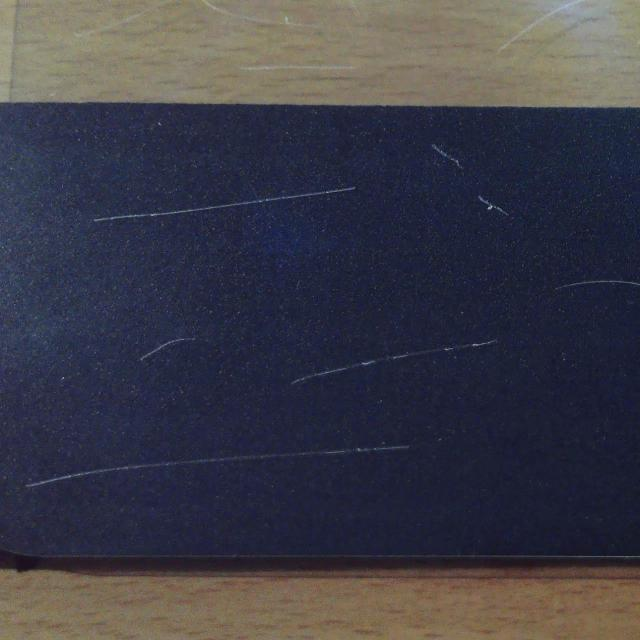defect: (25, 444, 411, 489), (290, 339, 498, 386), (92, 186, 356, 222), (135, 324, 197, 364), (547, 270, 640, 295), (420, 137, 467, 174), (475, 194, 516, 222)
